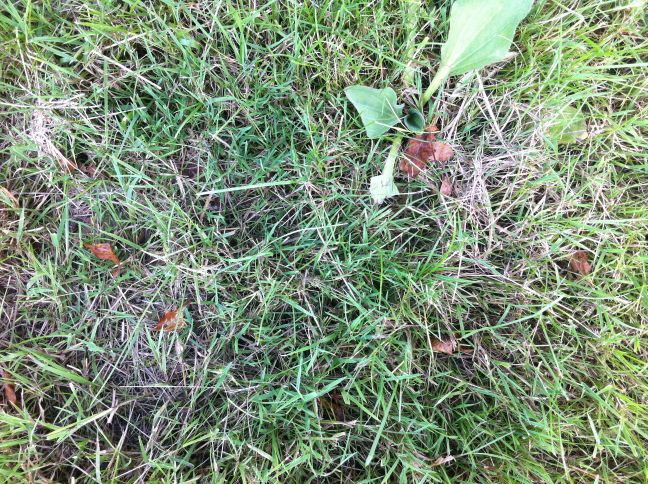weed1: (342, 1, 537, 205)
